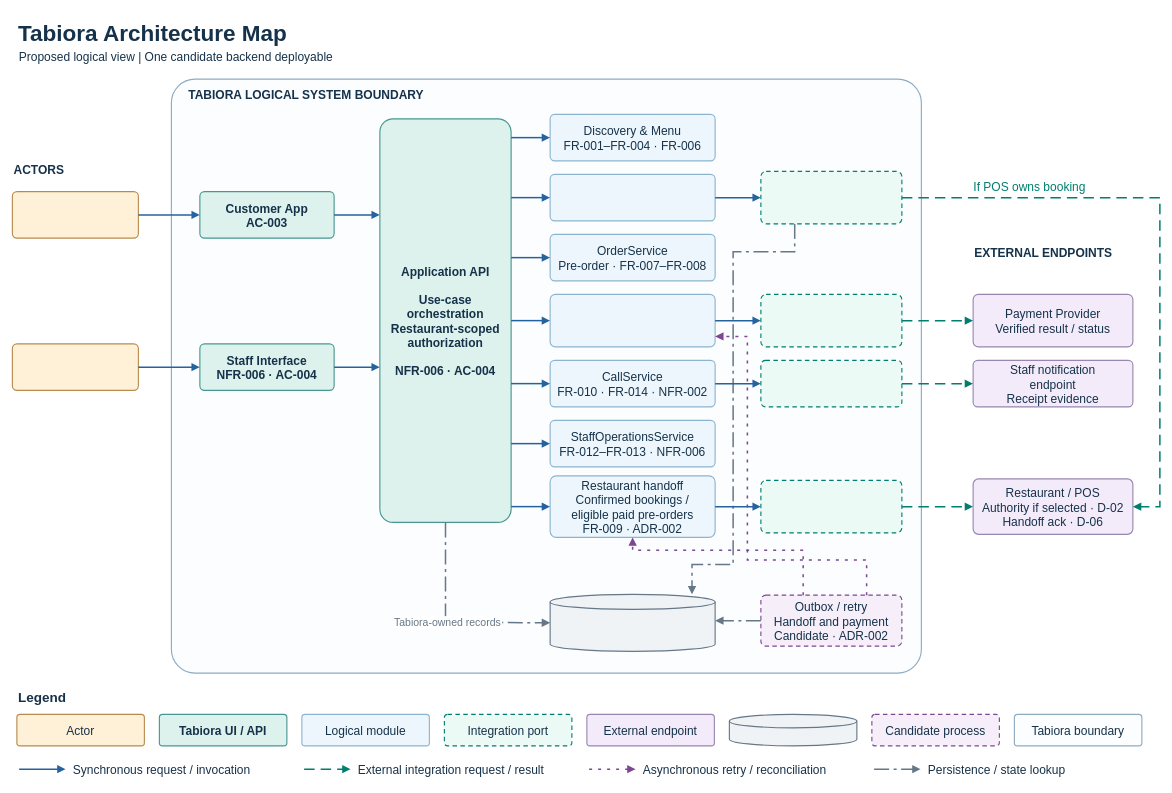
Image size: 1172x793. Some labels were removed from this diagram. The shapes that lost their labels are listed below. From the top down, each one's centre as x and y in pixels, then its label:
the point at 75,214: Customer Smartphone browser
the point at 632,197: BookingService FR-004–FR-005 · NFR-004
the point at 831,197: BookingAuthority Preview / atomic create ADR-001 · D-02
the point at 632,320: PaymentService FR-008 · FR-011 boundary NFR-005 · ADR-002
the point at 831,320: PaymentProviderPort Initiate, verify, query AC-002
the point at 75,367: Waiter / Manager Staff device
the point at 831,383: StaffNotifier Endpoint receipt D-07
the point at 831,506: POSIntegration Handoff and ack AC-001 · AC-005–AC-006
the point at 632,622: Relational persistence Proposed · NFR-008
the point at 792,729: Proposed storage
